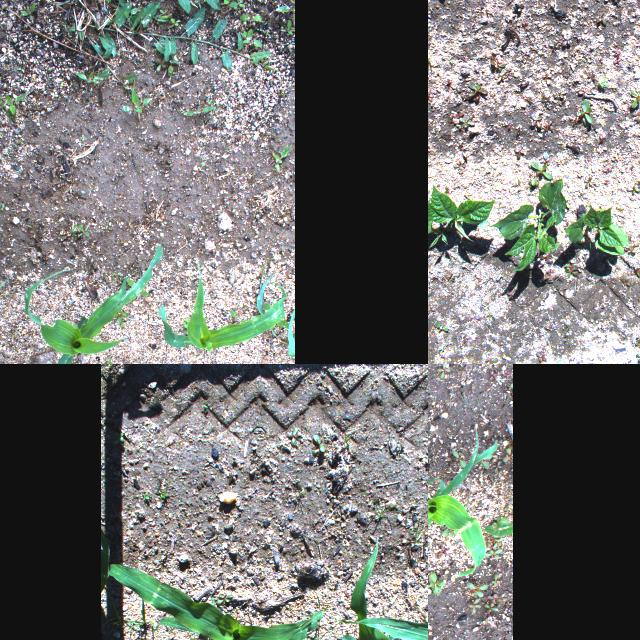crop: (9, 245, 163, 364), (108, 565, 323, 640), (293, 536, 428, 640), (158, 258, 288, 352), (428, 427, 498, 599), (492, 179, 568, 273), (428, 185, 495, 248), (256, 259, 294, 357), (564, 207, 632, 256), (483, 522, 512, 536)
weed: (78, 2, 276, 72), (96, 0, 237, 13), (124, 619, 162, 640), (264, 302, 290, 331), (122, 89, 152, 113), (374, 496, 401, 522), (5, 93, 27, 123), (272, 146, 292, 174), (532, 162, 552, 186), (275, 0, 294, 24), (126, 278, 150, 296), (578, 100, 594, 126), (428, 572, 445, 596), (474, 451, 494, 471), (492, 516, 510, 538), (467, 82, 488, 100), (155, 474, 169, 500), (242, 28, 262, 46), (466, 581, 488, 597), (75, 72, 103, 84), (185, 105, 215, 116), (229, 310, 249, 326), (112, 310, 128, 328), (122, 73, 138, 89), (70, 26, 86, 42), (452, 450, 466, 468), (168, 52, 178, 76), (286, 427, 298, 447), (442, 518, 454, 538), (484, 548, 504, 560), (100, 364, 121, 375), (183, 628, 202, 640), (437, 364, 451, 380), (468, 598, 482, 614), (630, 86, 640, 108), (312, 436, 324, 454), (216, 594, 234, 606), (281, 20, 295, 34), (124, 8, 138, 22), (564, 265, 578, 279), (458, 116, 474, 128), (91, 41, 105, 54), (240, 15, 264, 22), (20, 4, 34, 16), (76, 224, 90, 236), (530, 113, 542, 127), (487, 592, 501, 604), (484, 602, 498, 614), (515, 144, 525, 160), (503, 447, 513, 463), (526, 180, 538, 193), (156, 58, 167, 72), (154, 14, 173, 22), (512, 178, 524, 190), (434, 322, 448, 332), (496, 70, 506, 84), (486, 52, 496, 66), (578, 88, 592, 98), (583, 174, 593, 188), (538, 255, 552, 265), (452, 160, 466, 170), (482, 355, 497, 364), (168, 17, 180, 28), (233, 0, 245, 10), (219, 0, 239, 6), (97, 68, 109, 78), (598, 76, 608, 88), (494, 61, 506, 71), (544, 120, 554, 132), (625, 186, 640, 194), (418, 364, 428, 376), (493, 460, 503, 472), (449, 524, 459, 536), (598, 12, 606, 26), (446, 272, 460, 280), (492, 573, 500, 587), (554, 89, 566, 98), (588, 72, 598, 82), (536, 353, 546, 363), (439, 546, 449, 556), (493, 538, 503, 548), (488, 536, 498, 546), (71, 223, 77, 239), (506, 118, 514, 130), (619, 279, 631, 287), (493, 468, 502, 478), (498, 598, 507, 608), (632, 267, 640, 278), (467, 504, 478, 512), (55, 0, 69, 6), (630, 244, 638, 254), (492, 562, 500, 572), (194, 0, 202, 9), (634, 336, 640, 348), (64, 27, 70, 38), (503, 370, 511, 378), (116, 0, 126, 6), (183, 318, 189, 328), (564, 36, 570, 46), (564, 262, 570, 272), (428, 91, 433, 100), (635, 114, 640, 123), (636, 353, 640, 363), (159, 9, 167, 13), (107, 360, 113, 364), (0, 102, 3, 108), (510, 382, 512, 388)
